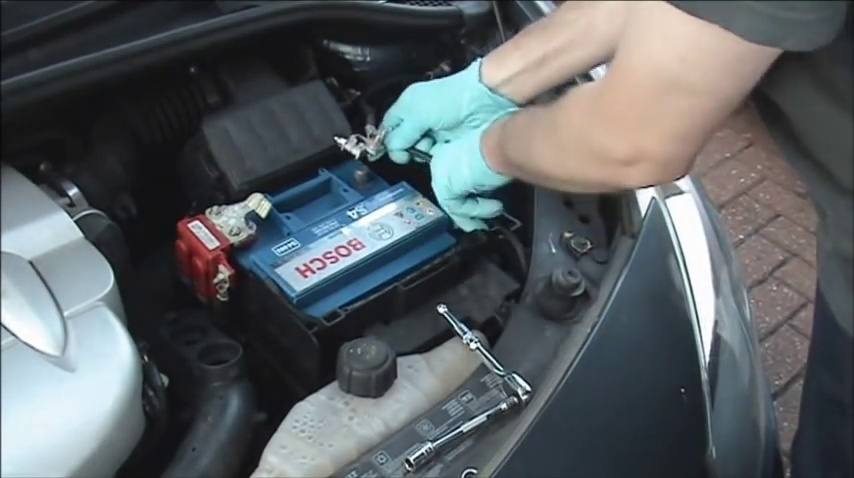battery: (198, 157, 461, 323)
neg_disconnected: (324, 122, 390, 197)
neg_touched: (328, 97, 427, 214)
pos_connected: (174, 188, 278, 295)
